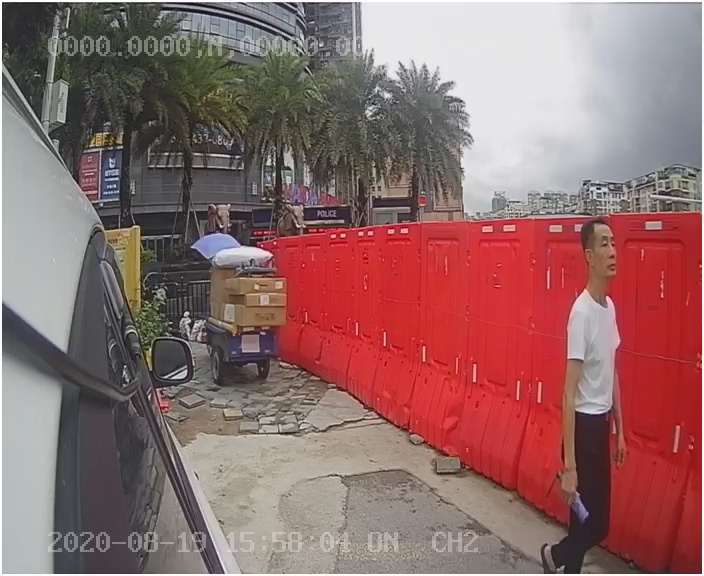person: (532, 218, 650, 555)
